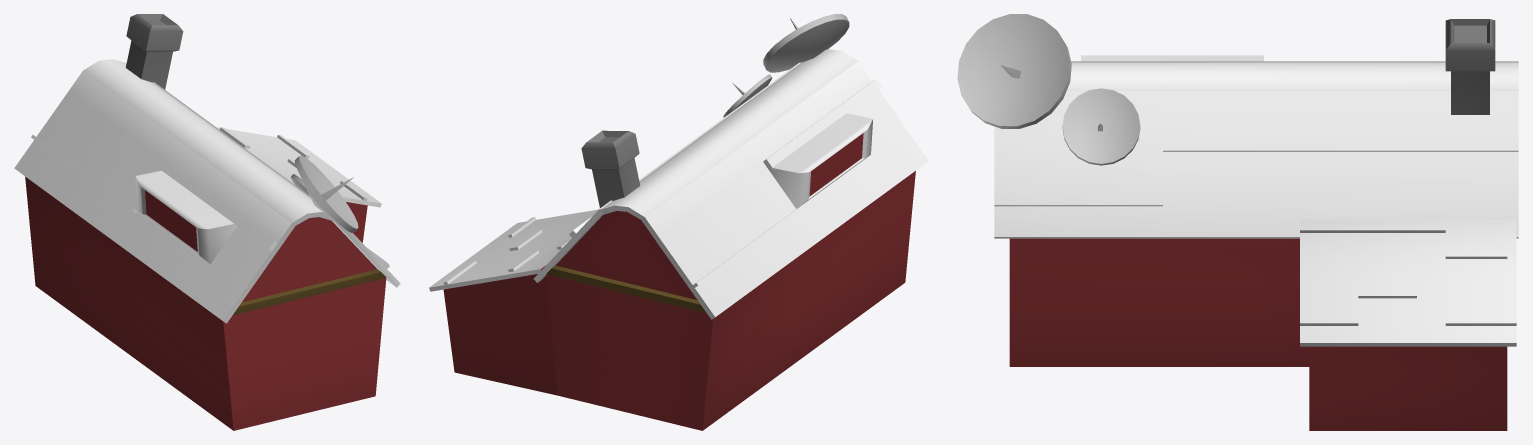
File: Farmhouse.fbx
3 renders of one model, left to right at view 1: azimuth 30°, elevation 25°; view 2: azimuth 150°, elevation 25°; view 3: azimuth 270°, elevation 25°, orthographic. The views are drawn at different scales.
Parts seen in each view (by area): view 1: pCylinder4; view 2: pCylinder4; view 3: pCylinder4.
Part boxes in pixels (left/top/right/bottom): pCylinder4: left=14, top=14, right=400, bottom=430; pCylinder4: left=429, top=14, right=928, bottom=430; pCylinder4: left=957, top=14, right=1518, bottom=430.
Bounding box in the file's own units: 10.44 × 9.1 × 14.4.
